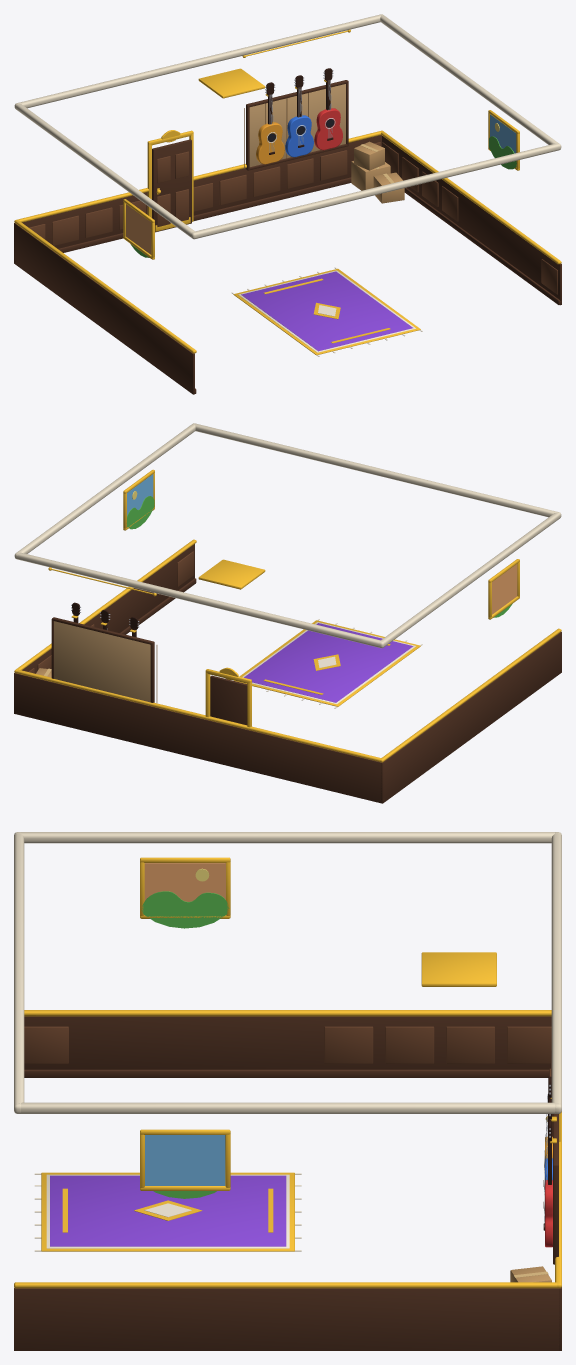
The model's file is PropShopInterior.fbx.
3 renders of one model, top to bottom at view 1: azimuth 30°, elevation 25°; view 2: azimuth 150°, elevation 25°; view 3: azimuth 270°, elevation 25°, orthographic. The views are drawn at different scales.
Parts seen in each view (by area): view 1: DarkWood, Trim, PanelWood, AccentRug, Gold, Board, Cardboard, RugGold, RugCream, GuitarOrange, GuitarRed, GuitarBlue (+5 smaller); view 2: DarkWood, Trim, Gold, AccentRug, Board, RugGold, RugCream, SkyOrange, PanelWood, Hills, SkyBlue; view 3: DarkWood, Trim, AccentRug, Gold, PanelWood, SkyBlue, RugGold, Hills, SkyOrange, RugCream.
Part boxes in pixels (left/top/right/bottom): DarkWood: left=14, top=80, right=561, bottom=394; Trim: left=14, top=14, right=561, bottom=239; PanelWood: left=29, top=142, right=557, bottom=294; AccentRug: left=241, top=271, right=412, bottom=351; Gold: left=14, top=29, right=561, bottom=353; Board: left=249, top=84, right=345, bottom=166; Cardboard: left=351, top=141, right=404, bottom=203; RugGold: left=233, top=268, right=420, bottom=355; RugCream: left=231, top=267, right=422, bottom=356; GuitarOrange: left=256, top=122, right=284, bottom=164; GuitarRed: left=314, top=108, right=342, bottom=150; GuitarBlue: left=285, top=115, right=313, bottom=157; DarkWood: left=14, top=544, right=561, bottom=803; Trim: left=14, top=423, right=561, bottom=648; Gold: left=14, top=469, right=561, bottom=762; AccentRug: left=244, top=623, right=413, bottom=702; Board: left=54, top=621, right=150, bottom=702; RugGold: left=234, top=620, right=420, bottom=706; RugCream: left=242, top=619, right=422, bottom=708; SkyOrange: left=492, top=564, right=517, bottom=614; PanelWood: left=28, top=551, right=193, bottom=673; Hills: left=127, top=496, right=512, bottom=617; SkyBlue: left=127, top=474, right=153, bottom=515; DarkWood: left=14, top=1016, right=561, bottom=1350; Trim: left=14, top=832, right=561, bottom=1113; AccentRug: left=50, top=1175, right=286, bottom=1246; Gold: left=14, top=857, right=561, bottom=1288; PanelWood: left=24, top=1026, right=551, bottom=1076; SkyBlue: left=145, top=1135, right=225, bottom=1185; RugGold: left=41, top=1172, right=294, bottom=1251; Hills: left=141, top=891, right=229, bottom=1198; SkyOrange: left=144, top=863, right=225, bottom=901; RugCream: left=34, top=1173, right=301, bottom=1251.
Size of the model in its own units: 3800 by 1584 by 3200.
